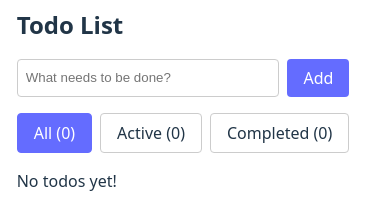
Test case: TodoList Component › shows appropriate empty message for each filter
The image size is (366, 209).
Expected: the text "No todos yet!" is shown, [17, 170, 117, 192]
Click the button with test id "filter-active": (151, 133) [100, 113, 202, 153]
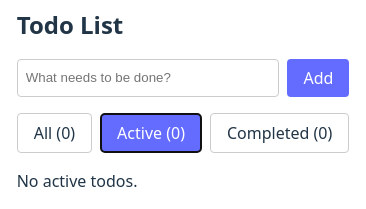
Expected: the text "No active todos." is shown, [17, 170, 138, 192]
Click the button with test id "filter-completed": (280, 133) [210, 113, 349, 153]
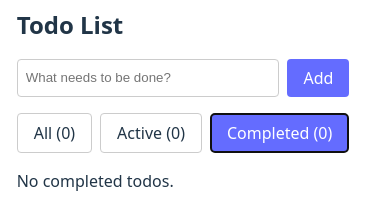
Expected: the text "No completed todos." is shown, [17, 170, 174, 192]
